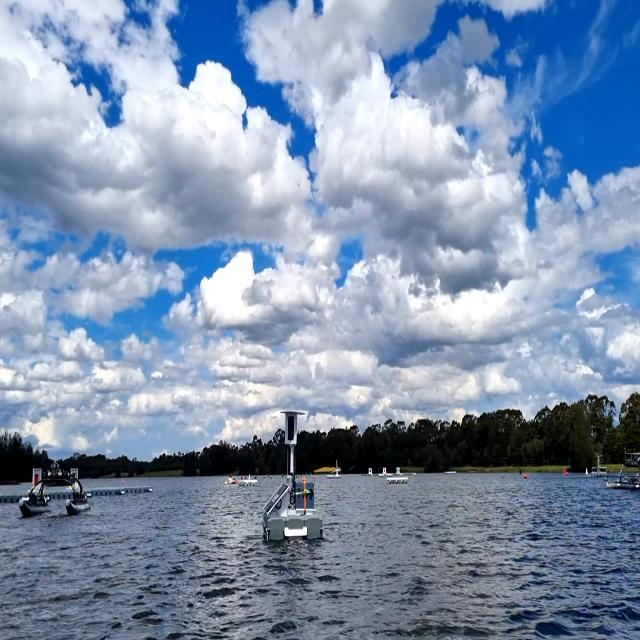led: (287, 414, 295, 442)
